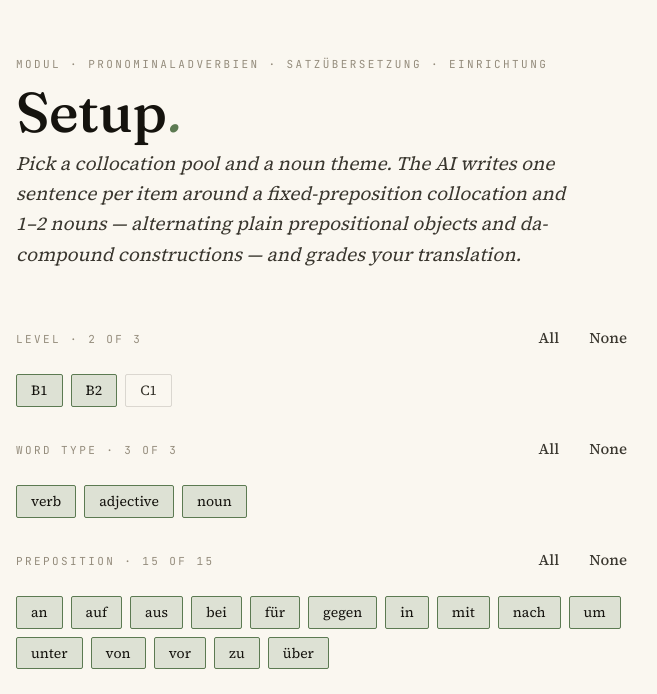
Scenario: SentenceSetup › disables Start when a filter chip-row is cleared to None
Click the button "None" in the row of "Word type · 3 of 3". click: (608, 449)
box: [576,431,640,467]
(page scrolled)
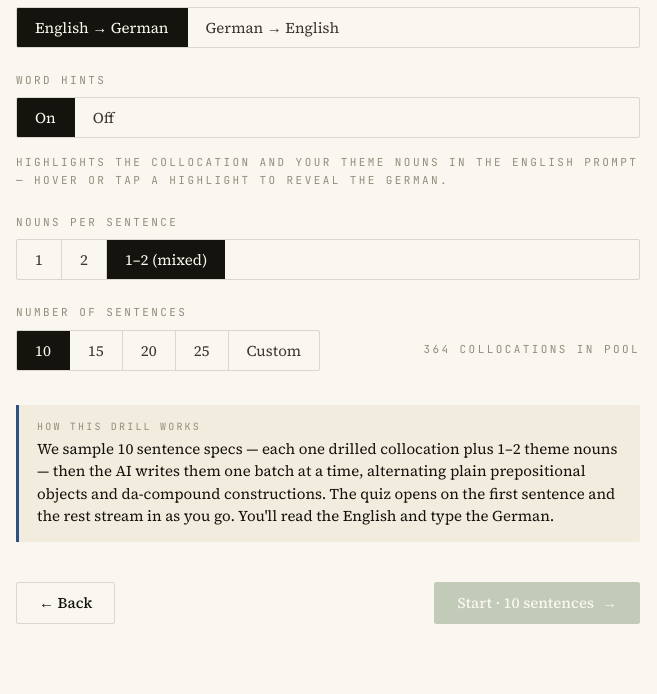
Expected: the button "Start · 10 sentences →" is disabled, [434,582,640,624]
